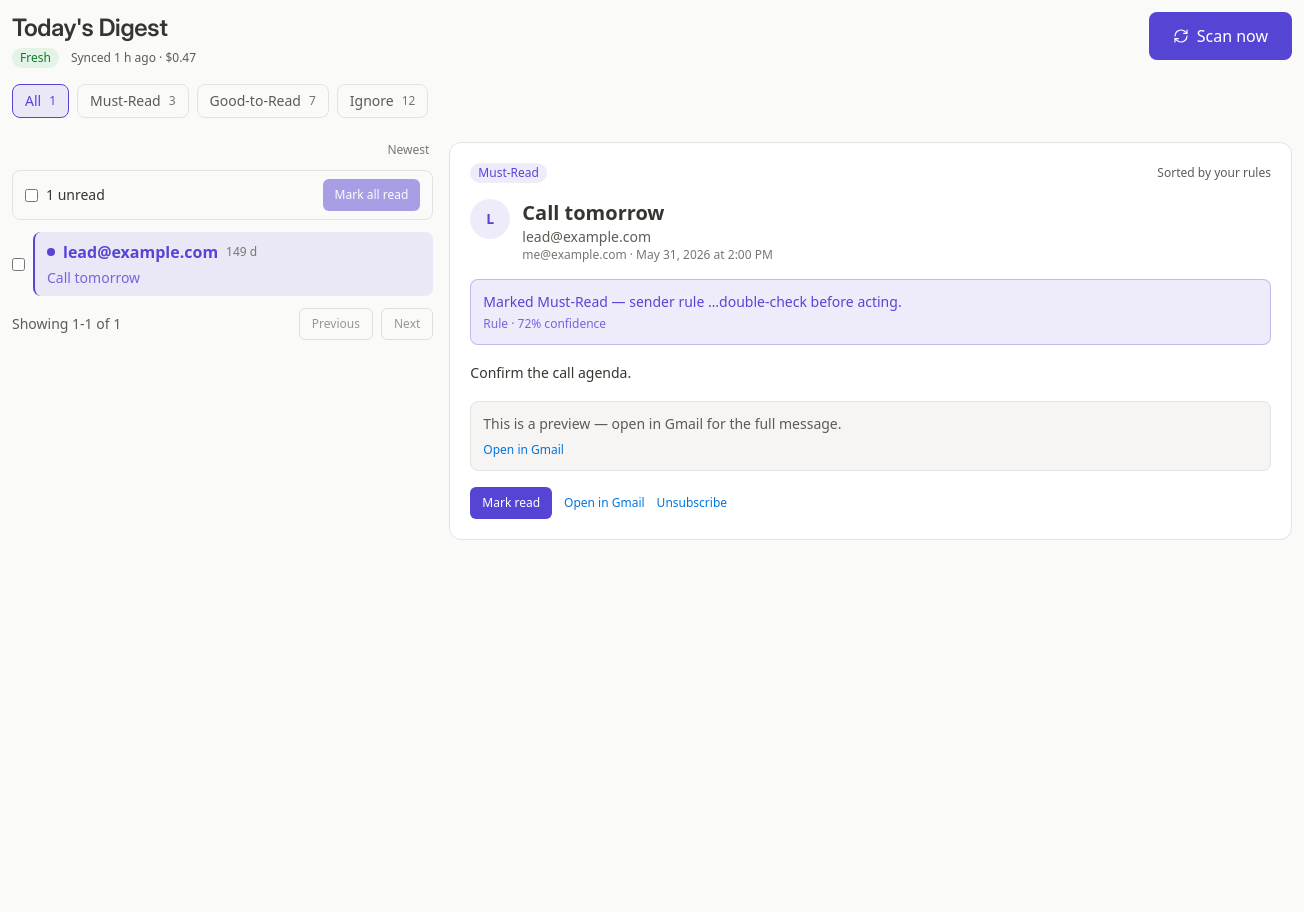
<DashboardPage> › prompts Gmail reconnect when mark-read needs new authorization
Expected: the heading "Call tomorrow" is shown, [522,199,664,226]
Click the button "Mark read". click: (511, 503)
box: [470,487,552,519]
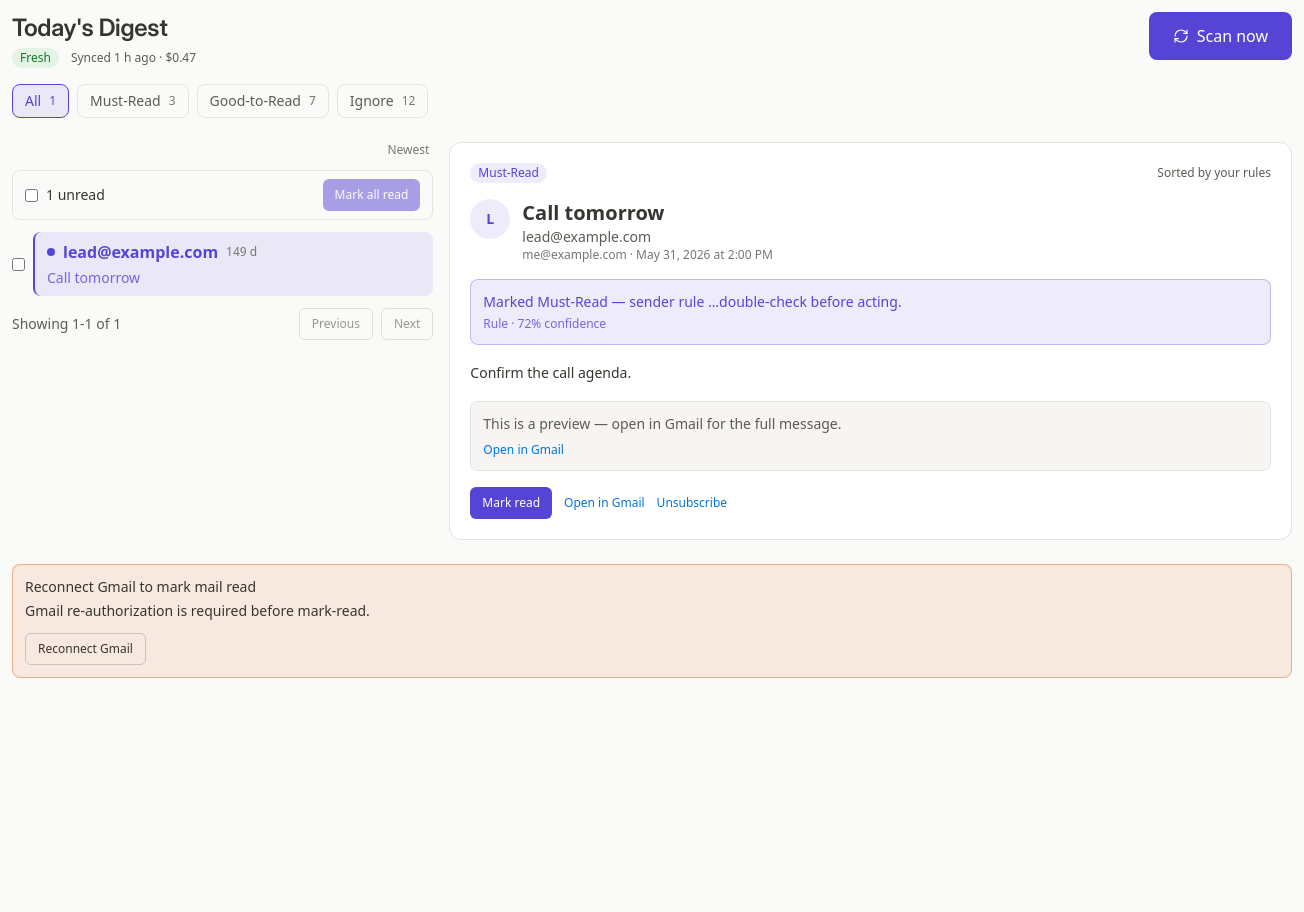
Expected: the text "Reconnect Gmail to mark mail read" is shown, [25,577,256,596]
Expected: the text "Gmail re-authorization is required before mark-read." is shown, [25,601,370,620]
Expected: the button "Reconnect Gmail" is shown, [25,633,146,665]
